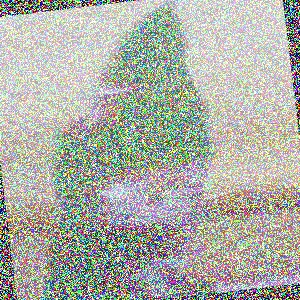Brown_Spot: (83, 156, 219, 237), (53, 75, 151, 141), (122, 246, 201, 300)
